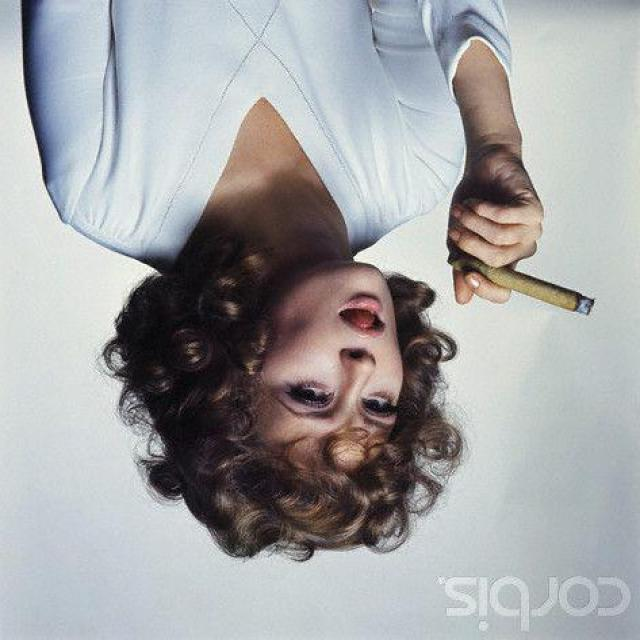cigarette: (445, 248, 608, 336)
